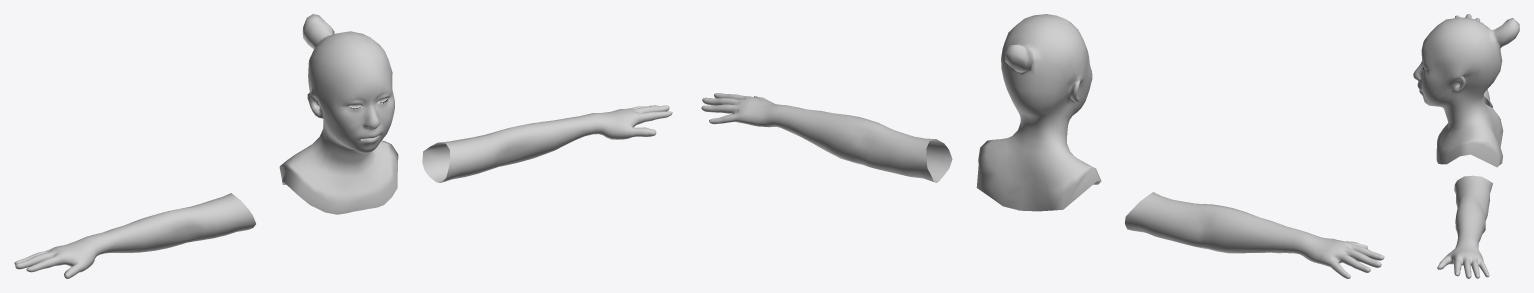
File: Yawn.fbx
The picture shows the model from 3 angles, left to right: view 1: azimuth 30°, elevation 25°; view 2: azimuth 150°, elevation 25°; view 3: azimuth 270°, elevation 25°; orthographic projection. The views are drawn at different scales.
Parts seen in each view (by area): view 1: head; view 2: head; view 3: head.
Boxes of the visible parts, left/top/right/bottom form: head: left=14, top=14, right=672, bottom=278; head: left=701, top=14, right=1384, bottom=278; head: left=1413, top=14, right=1519, bottom=278.
Size of the model in its own units: 159 by 40.54 by 27.33.
